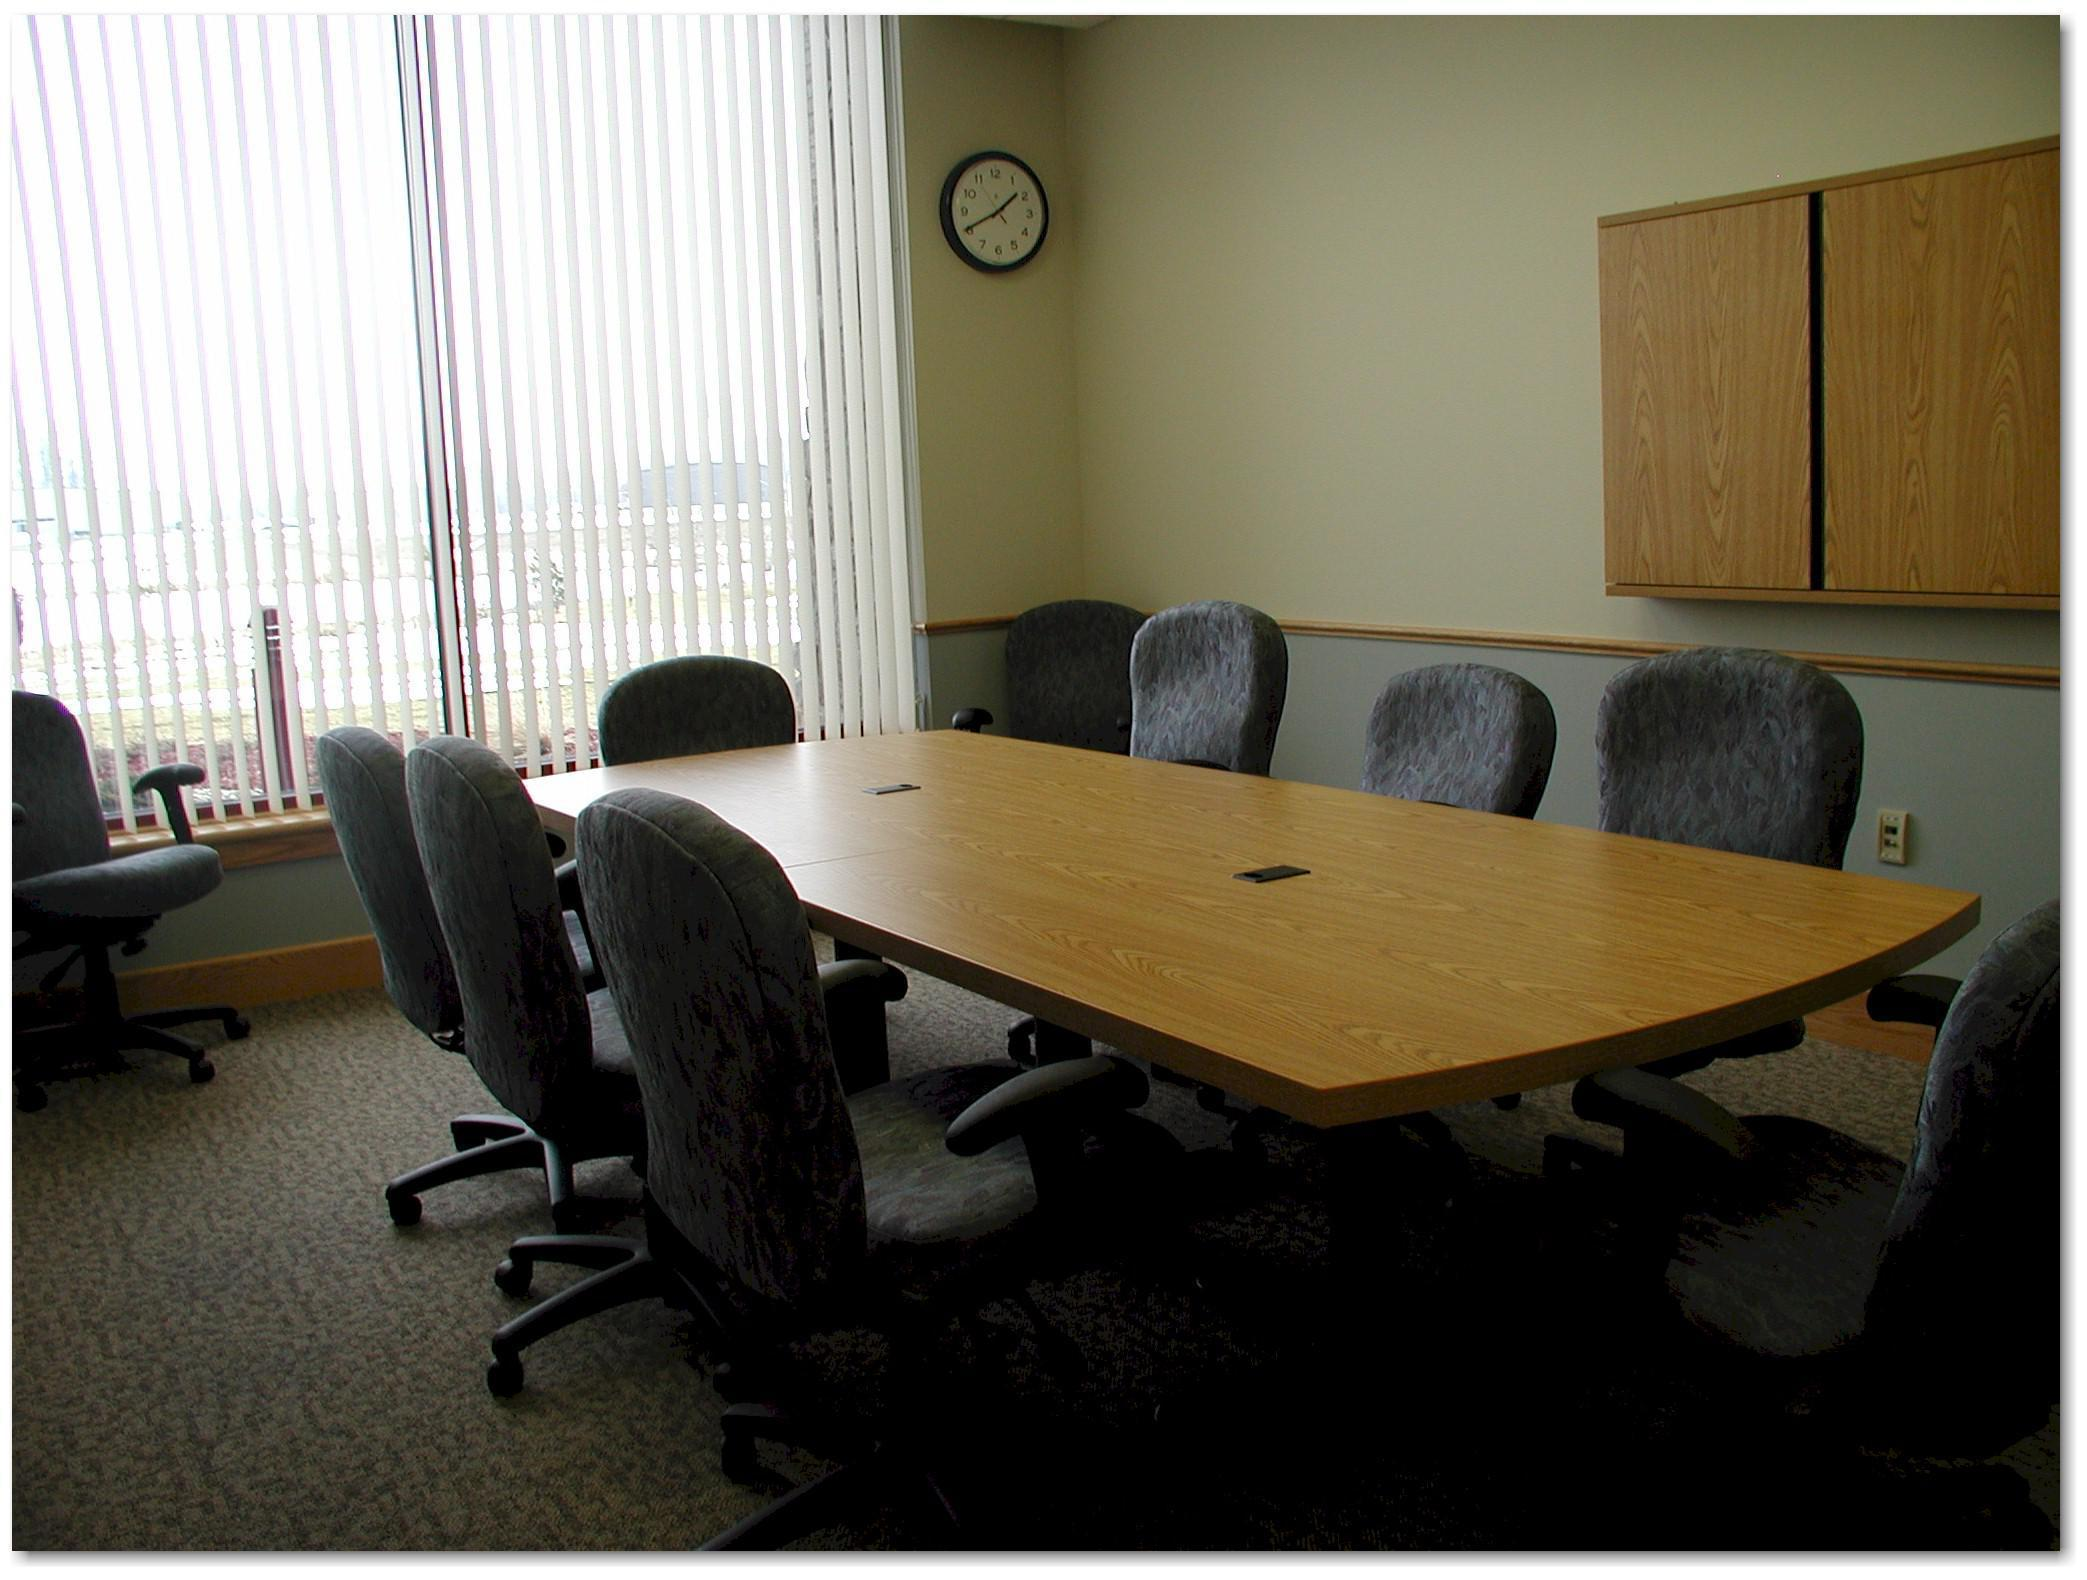Ventana: (28, 27, 800, 773)
